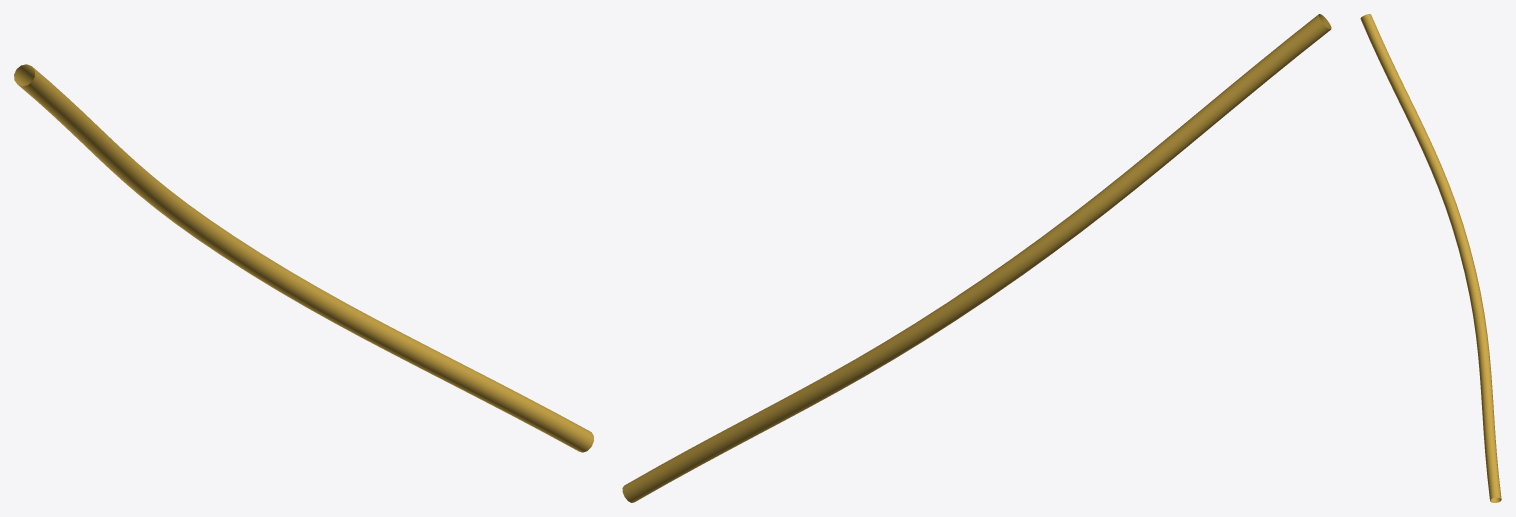
3 views of the same model, side by side, from view 1: azimuth 30°, elevation 25°; view 2: azimuth 150°, elevation 25°; view 3: azimuth 270°, elevation 25° (orthographic). The views are drawn at different scales.
Parts seen in each view (by area): view 1: 左侧隐神经髌下支; view 2: 左侧隐神经髌下支; view 3: 左侧隐神经髌下支.
Boxes of the visible parts, x1,y1,x2,y2 form: 左侧隐神经髌下支: [14, 64, 593, 452]; 左侧隐神经髌下支: [622, 14, 1331, 502]; 左侧隐神经髌下支: [1360, 14, 1501, 502].
Size of the model in its own units: 0.0514 by 0.0451 by 0.0179.
